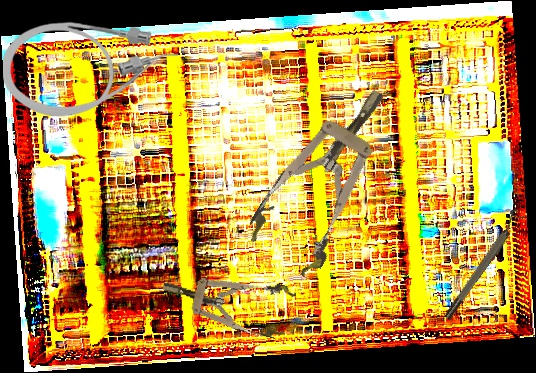Cannula: (3, 21, 178, 117)
Fixation Ring: (437, 207, 528, 322)
Speculum: (240, 70, 416, 283), (157, 258, 298, 342)
